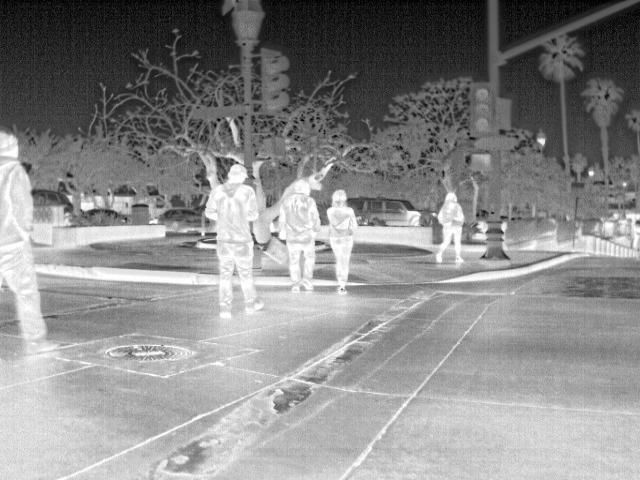car: (345, 195, 428, 227), (32, 190, 74, 220), (161, 207, 203, 232)
person: (3, 126, 58, 346), (201, 163, 267, 324), (275, 180, 323, 296), (325, 191, 358, 292), (434, 192, 469, 266)
